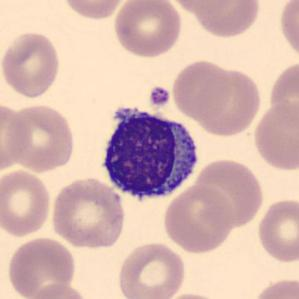Lymphocyte: (94, 101, 203, 206)
Platelets: (147, 84, 172, 109)
RBC: (49, 175, 127, 250), (161, 182, 235, 254), (193, 156, 266, 228), (5, 101, 77, 173), (195, 64, 263, 139), (4, 234, 77, 299), (0, 28, 62, 98), (116, 239, 187, 299), (111, 0, 183, 59), (170, 59, 234, 120), (0, 168, 53, 239), (251, 99, 298, 172), (255, 196, 298, 264), (194, 0, 262, 40), (266, 58, 299, 135), (0, 102, 32, 172), (59, 0, 129, 21), (276, 0, 299, 62), (26, 281, 88, 299), (251, 275, 297, 299), (166, 0, 237, 15), (160, 290, 227, 299)
